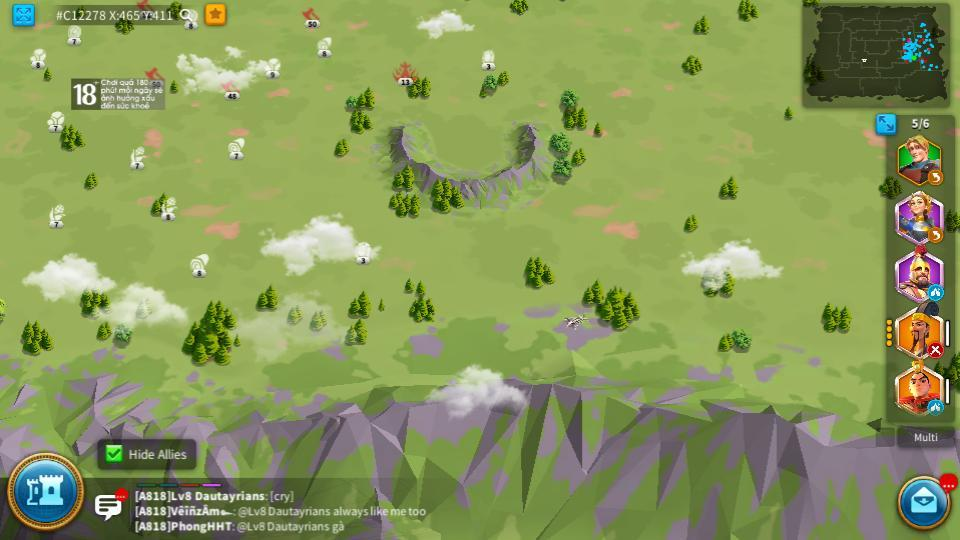march_attacking: (928, 345, 942, 357)
march_idle: (927, 401, 944, 415), (929, 284, 943, 299)
march_returning: (927, 170, 944, 185), (928, 230, 942, 242)
